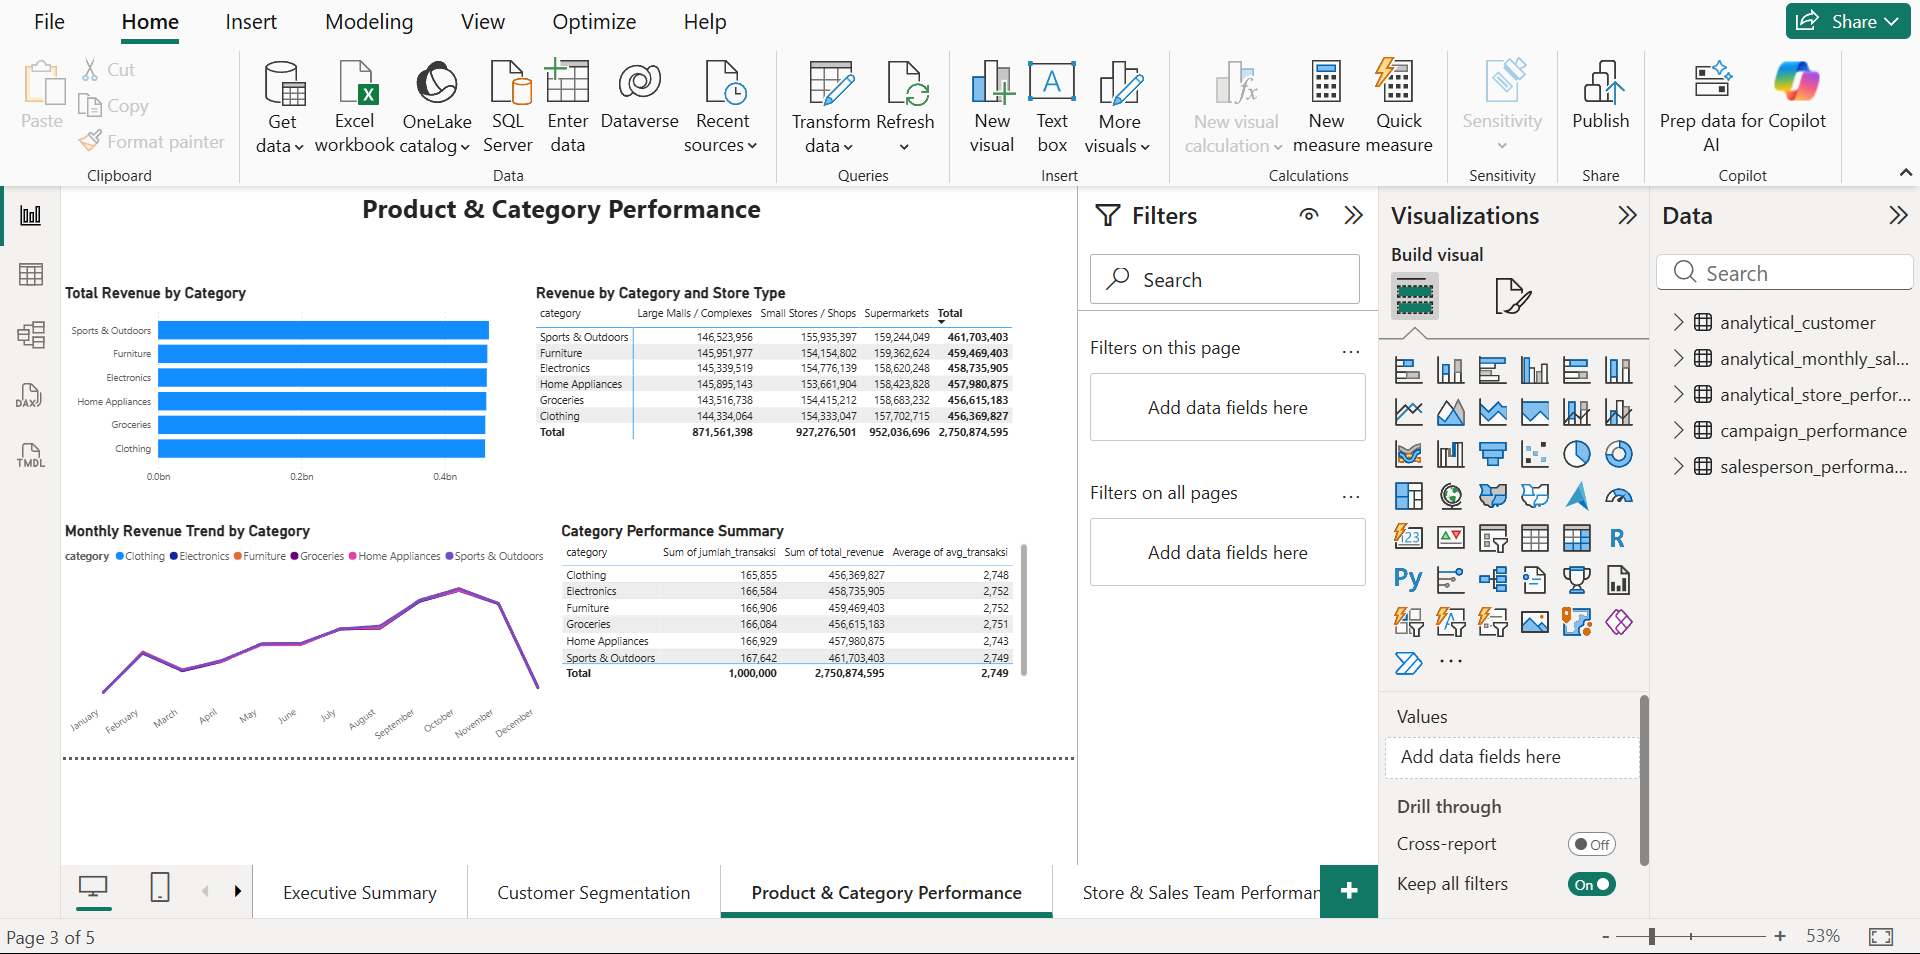

The dashboard page shown, as its layout file describes it:
{"tool":"powerbi","page":{"name":"Product & Category Performance","canvas":[1280,720],"ordinal":2},"visuals":[{"type":"textbox","box":[374.2,0,532.9,64.3],"z":0},{"type":"clusteredBarChart","title":"Total Revenue by Category","fields":{"Category":["analytical_monthly_sales.category"],"Y":["Sum(analytical_monthly_sales.total_revenue)"]},"box":[0,122.8,593.4,260.8],"z":1000},{"type":"lineChart","title":"Monthly Revenue Trend by Category","fields":{"Y":["Sum(analytical_monthly_sales.total_revenue)"],"Category":["analytical_monthly_sales.bulan.Variation.Date Hierarchy.Month"],"Series":["analytical_monthly_sales.category"]},"box":[0,423.3,625.5,296.7],"z":2000},{"type":"pivotTable","title":"Revenue by Category and Store Type","fields":{"Rows":["analytical_monthly_sales.category"],"Columns":["analytical_monthly_sales.store_type"],"Values":["Sum(analytical_monthly_sales.total_revenue)"]},"box":[593.4,122.8,629.3,207.9],"z":3000},{"type":"tableEx","title":"Category Performance Summary","fields":{"Values":["analytical_monthly_sales.category","Sum(analytical_monthly_sales.jumlah_transaksi)","Sum(analytical_monthly_sales.total_revenue)","Avg(analytical_monthly_sales.avg_transaksi)"]},"box":[625.5,423.3,597.2,204.1],"z":4000}]}

Visuals, with their boxes on the page's 1280x720 design canvas (x1, y1, x2, y2). These are canvas units, not pixel positions in the 1920x954 screenshot, which may show the page scaled, cropped or inside an application window:
textbox: (374, 0, 907, 64)
"Total Revenue by Category" clusteredBarChart: (0, 123, 593, 384)
"Monthly Revenue Trend by Category" lineChart: (0, 423, 626, 720)
"Revenue by Category and Store Type" pivotTable: (593, 123, 1223, 331)
"Category Performance Summary" tableEx: (626, 423, 1223, 627)
